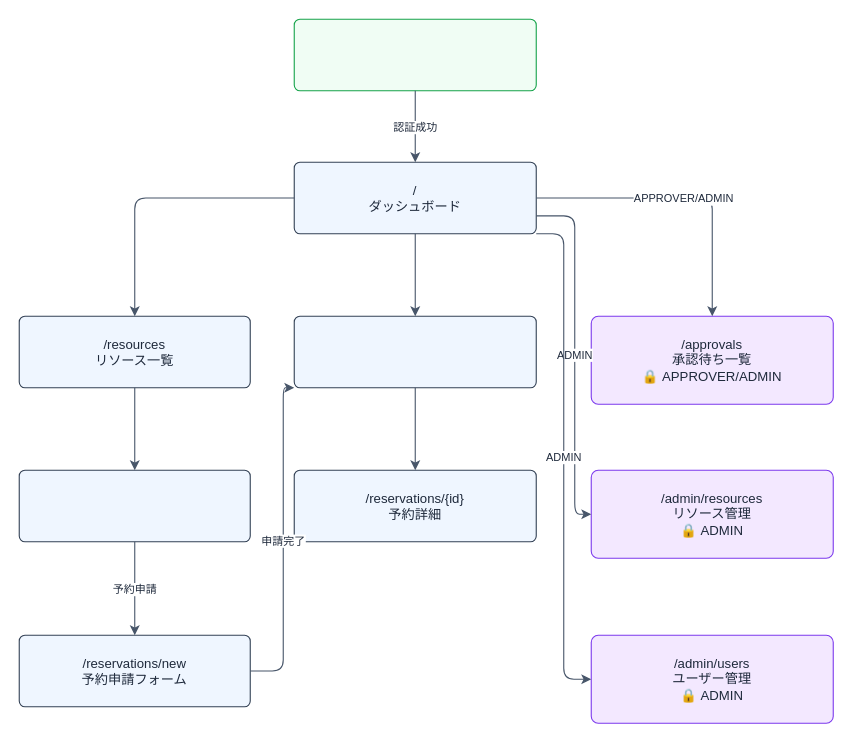
This 853x743 diagram has some shape labels left out. The centre of each missing label's shape, as x and y in pixels:
"/auth/signin サインイン" goes at [414,54].
"/reservations マイ予約一覧" goes at [414,351].
"/resources/{id} リソース詳細" goes at [134,505].
